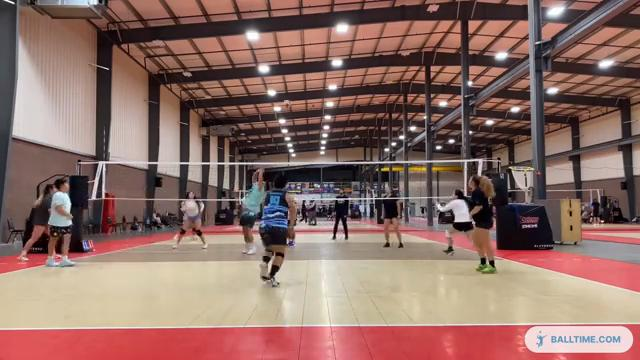alzata: (234, 161, 265, 257)
